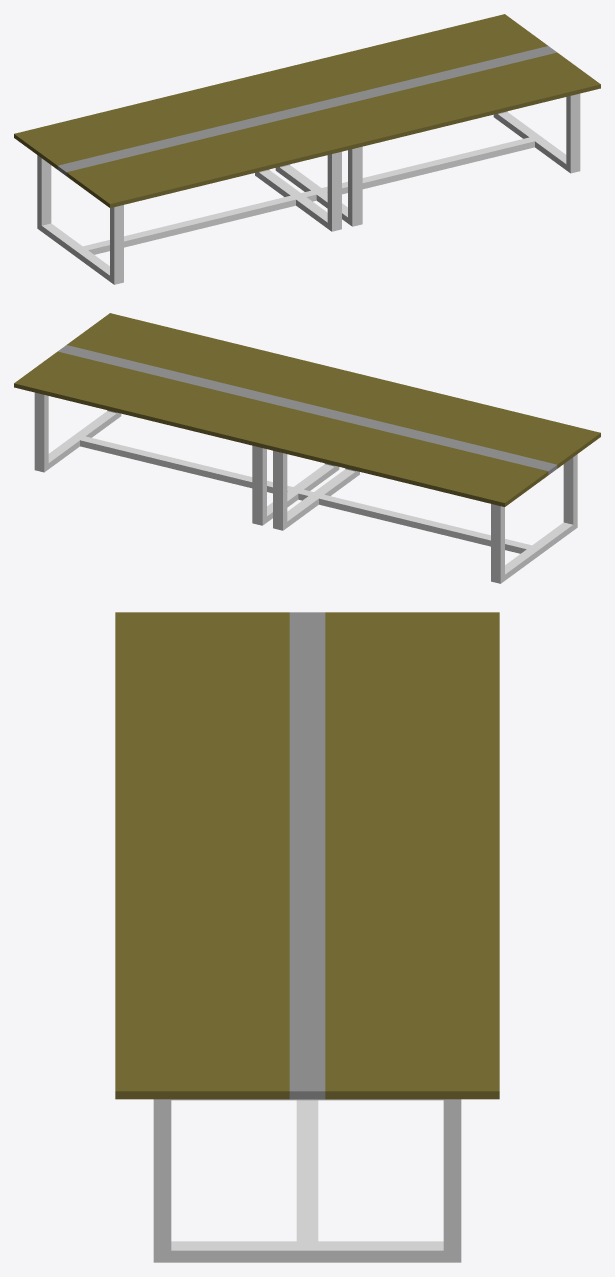
File: tableForPeregovorov.FBX
3 views of the same model, one above another, from view 1: azimuth 30°, elevation 25°; view 2: azimuth 150°, elevation 25°; view 3: azimuth 270°, elevation 25° (orthographic). The views are drawn at different scales.
Visible parts, largest first — view 1: Stol, Karkas; view 2: Stol, Karkas; view 3: Stol, Karkas.
Part boxes in pixels (bbox=[...]): Stol: bbox=[14, 14, 600, 207]; Karkas: bbox=[37, 93, 580, 284]; Stol: bbox=[14, 313, 600, 506]; Karkas: bbox=[34, 392, 577, 583]; Stol: bbox=[115, 612, 499, 1099]; Karkas: bbox=[153, 1099, 461, 1262].
Size of the model in its own units: 4424 by 785 by 1500.
